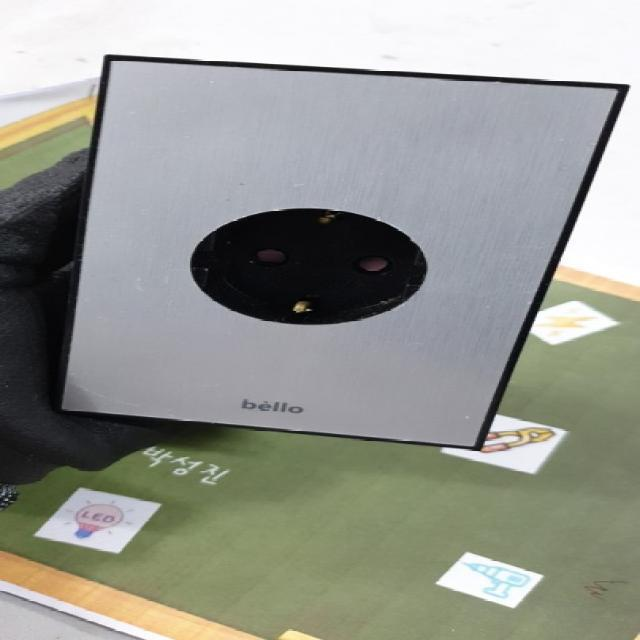typeb: (71, 46, 548, 457)
